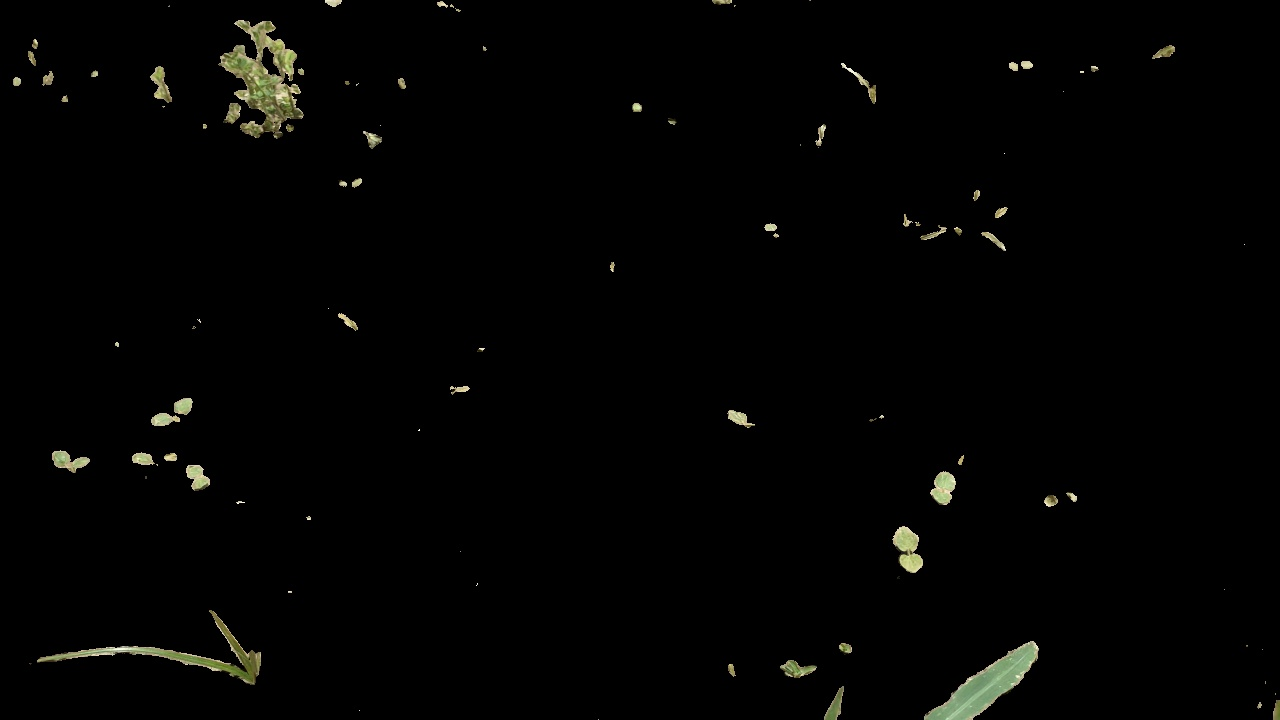crop: (821, 635, 1043, 720)
weed: (29, 601, 273, 682), (202, 19, 326, 159), (901, 171, 1016, 258), (889, 519, 926, 574), (146, 397, 199, 428), (146, 64, 179, 111), (51, 442, 92, 472), (778, 651, 819, 681), (935, 462, 958, 509), (182, 462, 218, 491), (729, 405, 761, 434), (1041, 486, 1079, 510), (338, 305, 363, 341), (129, 448, 181, 465), (1003, 52, 1039, 74), (762, 217, 785, 242), (335, 172, 366, 188)
